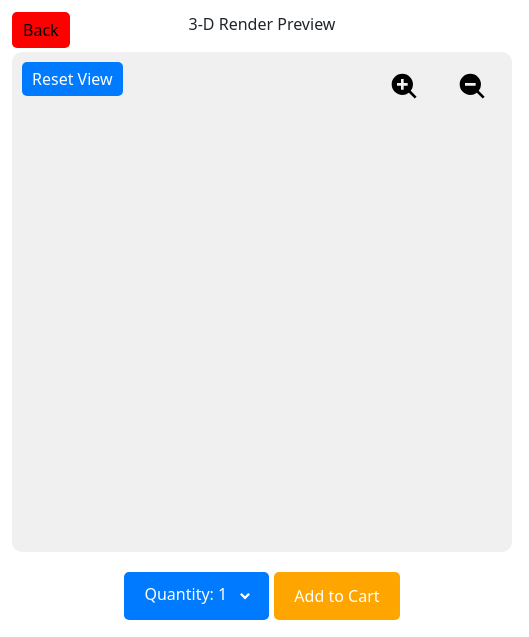
PreviewTab › shows error when adding default STL URL
This screenshot has width=529, height=637.
Click the button with test id "add-to-cart-button": click(337, 596) left=274, top=572, right=400, bottom=620
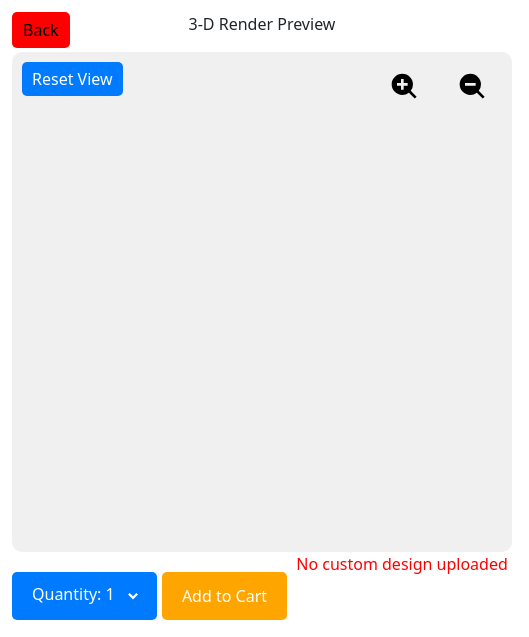
Now the text with test id "error-message" reads "No custom design uploaded", box left=296, top=553, right=508, bottom=575
